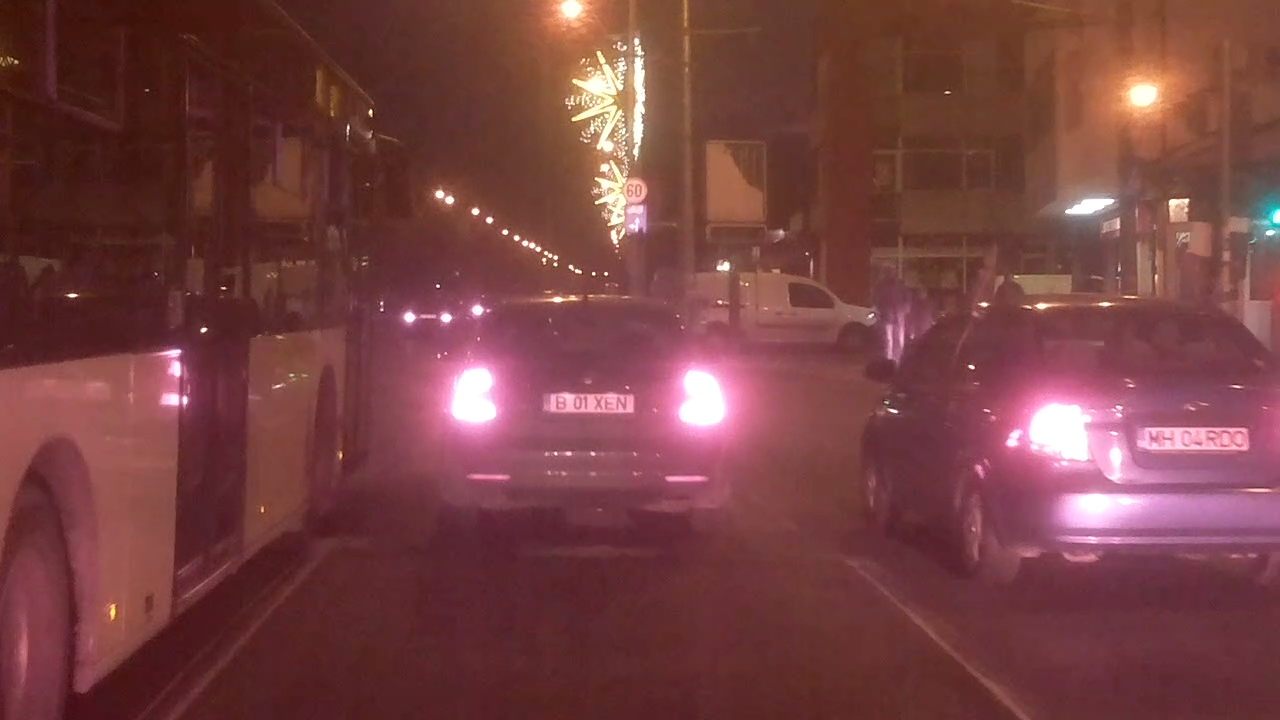license-plate: (1132, 423, 1252, 453), (537, 390, 637, 417)
